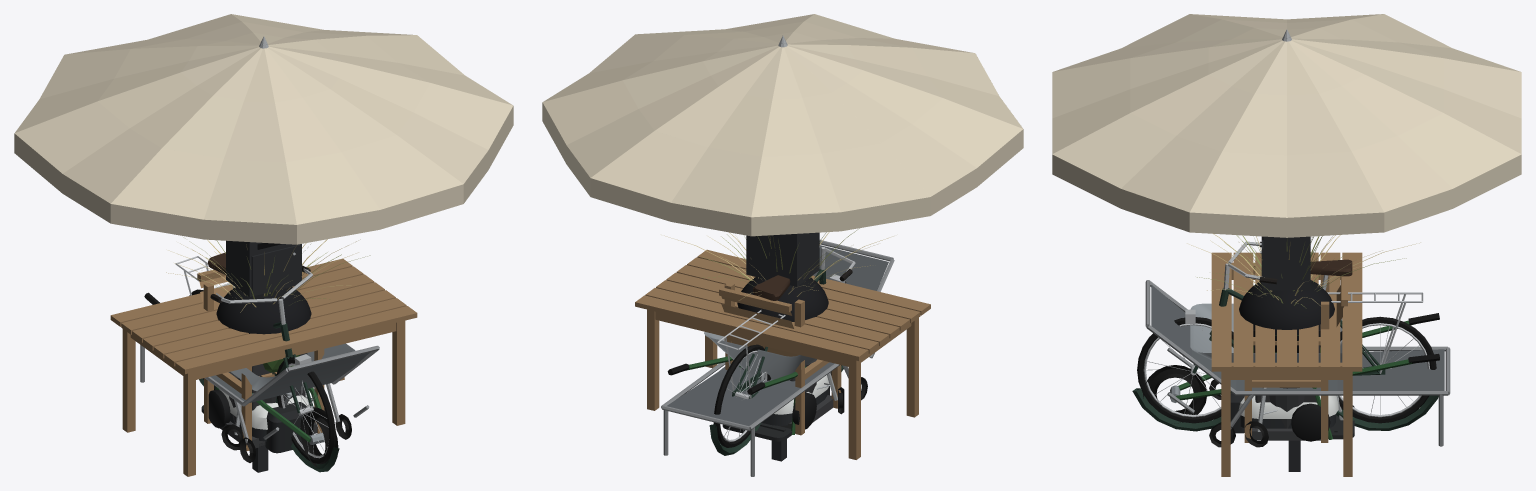
Rendered from garden.glb.
The picture shows the model from 3 angles, left to right: view 1: azimuth 30°, elevation 25°; view 2: azimuth 150°, elevation 25°; view 3: azimuth 270°, elevation 25°; orthographic projection. The views are drawn at different scales.
Parts seen in each view (by area): view 1: Parasol, Table, Lounger, Bike, Letterbox, Barbecue, Wheelbarrow, Chair, Mower, Planter, Dock; view 2: Parasol, Table, Lounger, Bike, Letterbox, Chair, Wheelbarrow, Barbecue, Mower, Planter, Dock; view 3: Parasol, Table, Lounger, Bike, Barbecue, Wheelbarrow, Letterbox, Chair, Mower, Planter, Dock, BoxPot.
Boxes of the visible parts, x1,y1,x2,y2 form: Parasol: (14, 14, 513, 448); Table: (110, 259, 417, 476); Lounger: (140, 345, 379, 462); Bike: (175, 252, 339, 472); Letterbox: (226, 240, 301, 472); Barbecue: (216, 287, 325, 450); Wheelbarrow: (144, 292, 355, 467); Chair: (197, 269, 324, 450); Mower: (208, 389, 309, 441); Planter: (166, 237, 370, 410); Dock: (201, 402, 306, 453); Parasol: (542, 14, 1023, 433); Table: (635, 249, 930, 459); Lounger: (661, 240, 894, 476); Bike: (709, 246, 855, 455); Letterbox: (746, 232, 819, 461); Chair: (719, 282, 841, 435); Wheelbarrow: (667, 332, 843, 434); Barbecue: (737, 277, 844, 414); Mower: (761, 375, 829, 429); Planter: (664, 228, 893, 381); Dock: (722, 386, 829, 441); Parasol: (1052, 14, 1521, 440); Table: (1211, 252, 1362, 476); Lounger: (1145, 280, 1450, 447); Bike: (1132, 241, 1438, 431); Barbecue: (1239, 280, 1343, 447); Wheelbarrow: (1143, 303, 1439, 439); Letterbox: (1260, 236, 1310, 471); Chair: (1244, 275, 1347, 442); Mower: (1238, 395, 1338, 441); Planter: (1187, 233, 1420, 402); Dock: (1230, 393, 1354, 439); BoxPot: (1253, 335, 1320, 428).
Size of the model in its own units: 2.77 by 2.87 by 2.77.
